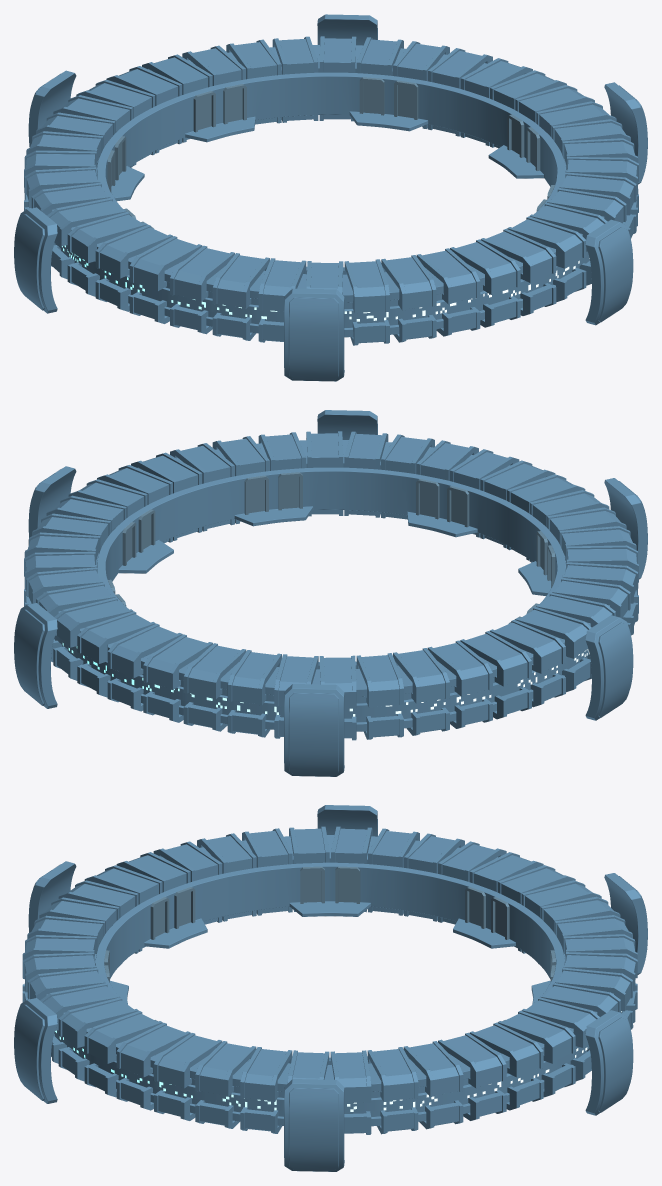
Rendered from two_ring2.glb.
3 views of the same model, one above another, from view 1: azimuth 30°, elevation 25°; view 2: azimuth 150°, elevation 25°; view 3: azimuth 270°, elevation 25° (orthographic).
Parts seen in each view (by area): view 1: Cylinder.014, Cylinder.012, Cylinder.015, Plane.031, Cylinder.016, Plane.030, Plane.032, Plane.029, Plane.033, Plane.034; view 2: Cylinder.014, Cylinder.012, Cylinder.015, Plane.033, Cylinder.016, Plane.032, Plane.034, Plane.031, Plane.029, Plane.030; view 3: Cylinder.014, Cylinder.012, Plane.029, Cylinder.015, Cylinder.016, Plane.034, Plane.030, Plane.033, Plane.031, Plane.032.
Boxes of the visible parts, left/top/right/bottom form: Cylinder.014: left=24, top=36, right=638, bottom=345; Cylinder.012: left=52, top=45, right=623, bottom=337; Cylinder.015: left=107, top=77, right=554, bottom=228; Plane.031: left=284, top=288, right=344, bottom=381; Cylinder.016: left=54, top=239, right=589, bottom=322; Plane.030: left=585, top=219, right=633, bottom=325; Plane.032: left=14, top=207, right=57, bottom=313; Plane.029: left=604, top=82, right=647, bottom=184; Plane.033: left=28, top=70, right=76, bottom=147; Plane.034: left=317, top=14, right=377, bottom=45; Cylinder.014: left=24, top=431, right=638, bottom=740; Cylinder.012: left=44, top=440, right=624, bottom=731; Cylinder.015: left=108, top=472, right=555, bottom=623; Plane.033: left=284, top=684, right=344, bottom=776; Cylinder.016: left=54, top=635, right=589, bottom=716; Plane.032: left=585, top=615, right=633, bottom=720; Plane.034: left=14, top=603, right=57, bottom=708; Plane.031: left=604, top=478, right=647, bottom=579; Plane.029: left=28, top=466, right=76, bottom=537; Plane.030: left=317, top=410, right=377, bottom=439; Cylinder.014: left=22, top=826, right=637, bottom=1134; Cylinder.012: left=46, top=835, right=613, bottom=1126; Plane.029: left=284, top=1079, right=344, bottom=1171; Cylinder.015: left=104, top=866, right=555, bottom=1021; Cylinder.016: left=54, top=1011, right=621, bottom=1112; Plane.034: left=585, top=1010, right=633, bottom=1115; Plane.030: left=14, top=998, right=57, bottom=1103; Plane.033: left=604, top=873, right=647, bottom=974; Plane.031: left=28, top=861, right=76, bottom=932; Plane.032: left=317, top=805, right=377, bottom=836.
Bounding box in the file's own units: 60.54 × 8.52 × 55.76.
